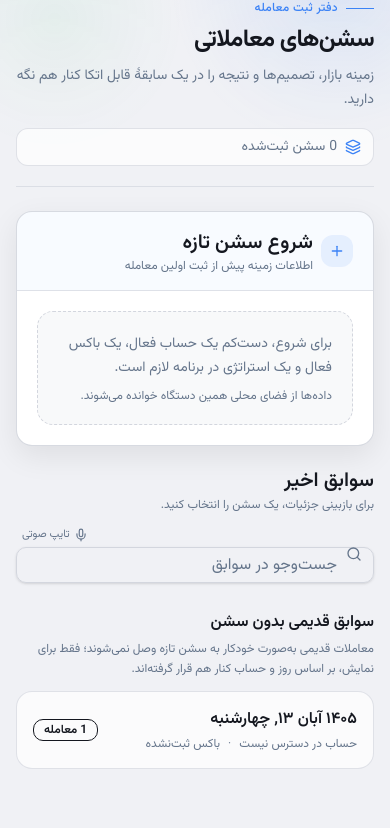
Test: session-first journal list › keeps old unlinked trades visible in date-grouped sections
expect the heading "سوابق قدیمی بدون سشن" is shown: met, box [211,610,374,635]
Click the heading that starts with "۱۴۰۵ آبان ۱۳, چهارشنبه" at [244, 720], box [17,692,373,768]
(page scrolled)
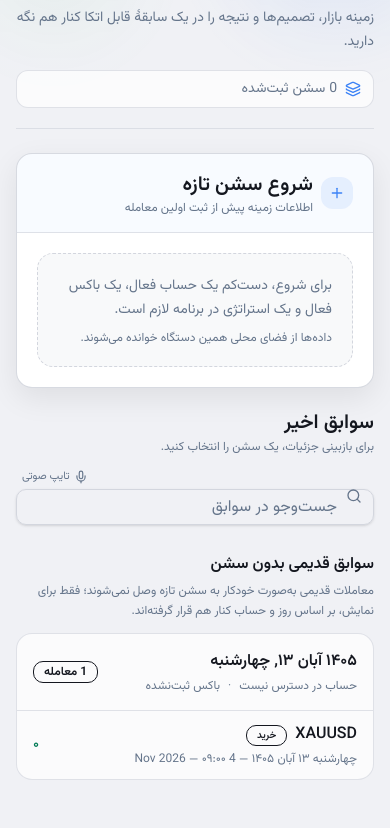
expect the button with test id "link-legacy-trade-legacy-1" is shown: met, box [17,711,373,779]
